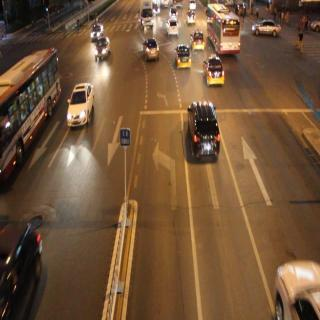BigCar: (0, 43, 61, 189), (206, 2, 242, 57), (135, 0, 159, 29)
Car: (177, 94, 227, 167), (63, 83, 98, 129), (200, 56, 228, 91), (253, 14, 280, 41), (171, 42, 190, 76), (142, 29, 160, 63), (92, 35, 111, 63), (163, 18, 183, 42), (190, 29, 206, 54), (183, 7, 198, 30), (91, 21, 103, 42)
